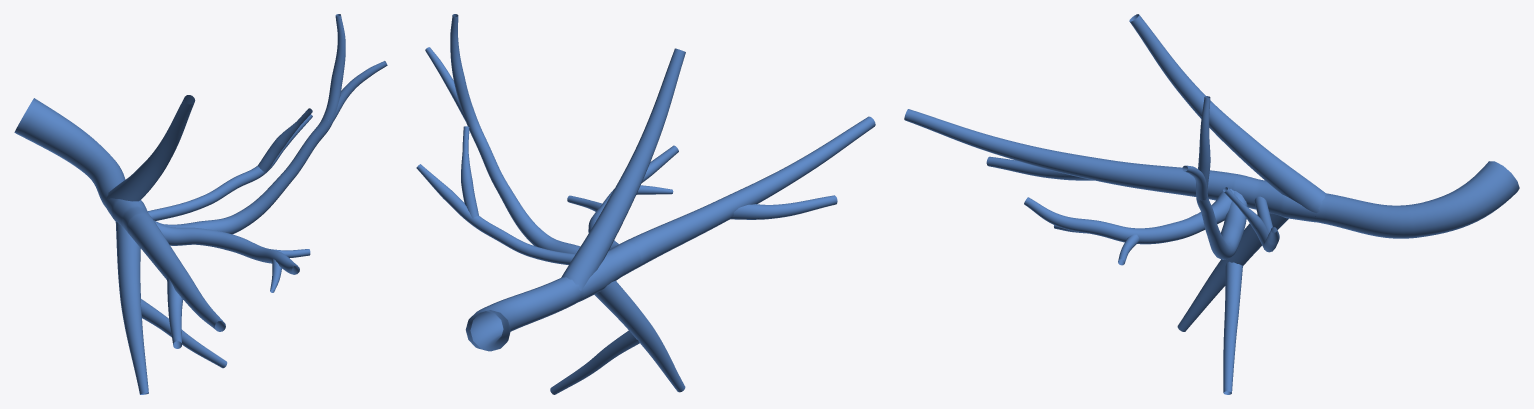
3 renders of one model, left to right at view 1: azimuth 30°, elevation 25°; view 2: azimuth 150°, elevation 25°; view 3: azimuth 270°, elevation 25°, orthographic. The views are drawn at different scales.
Parts seen in each view (by area): view 1: 左肺尖后静脉; view 2: 左肺尖后静脉; view 3: 左肺尖后静脉.
Part boxes in pixels (x1,y1,x2,y2): 左肺尖后静脉: (14,14,387,394); 左肺尖后静脉: (416,14,875,394); 左肺尖后静脉: (904,14,1519,394).
Size of the model in its own units: 0.0907 by 0.0946 by 0.1494.
